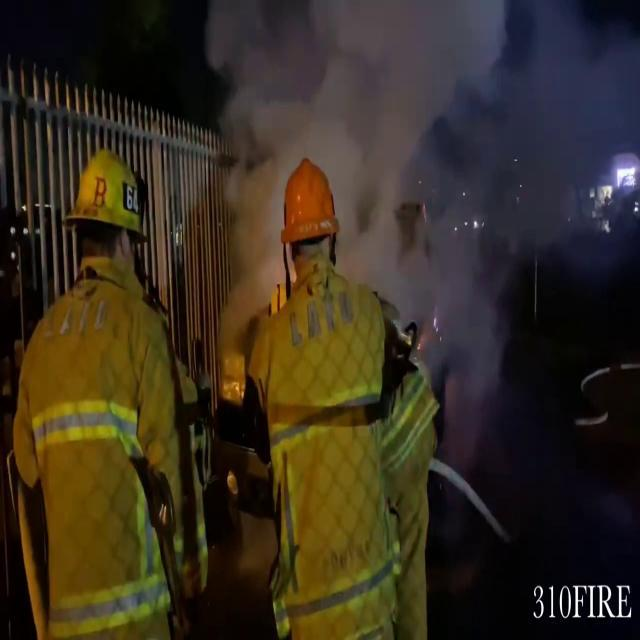Smoke: (212, 1, 510, 302)
